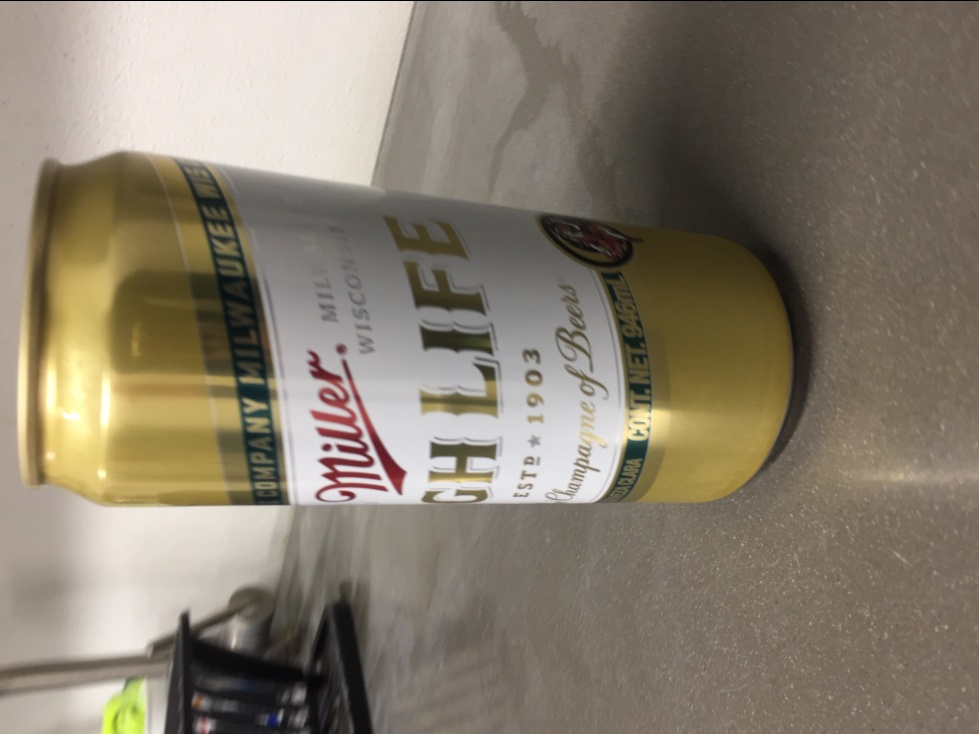miller: (17, 150, 799, 511)
